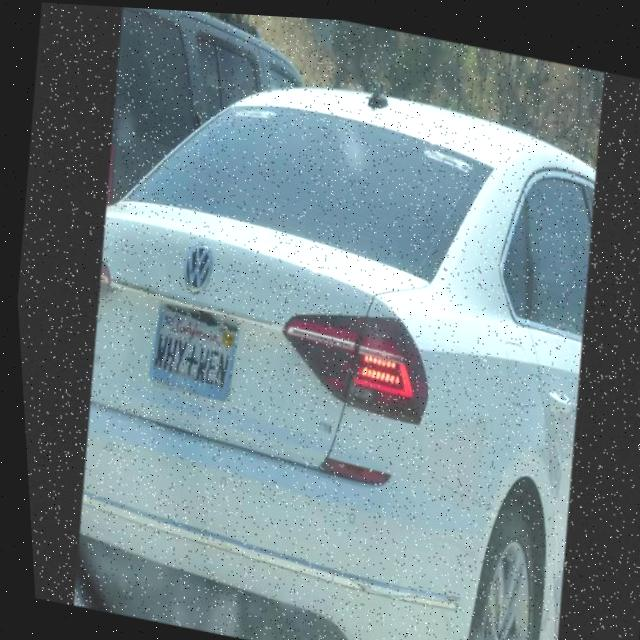LicensePlate: (144, 301, 237, 401)
